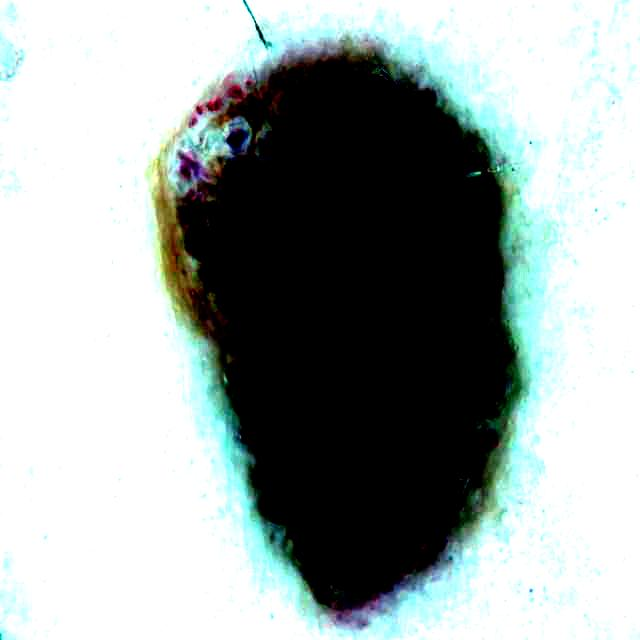BKL: (163, 67, 505, 599)
